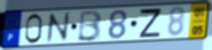0: (24, 12, 44, 45)
8: (166, 6, 187, 39), (107, 9, 128, 41)
B: (76, 9, 104, 43)
N: (45, 11, 71, 45)
Z: (139, 8, 163, 39)
